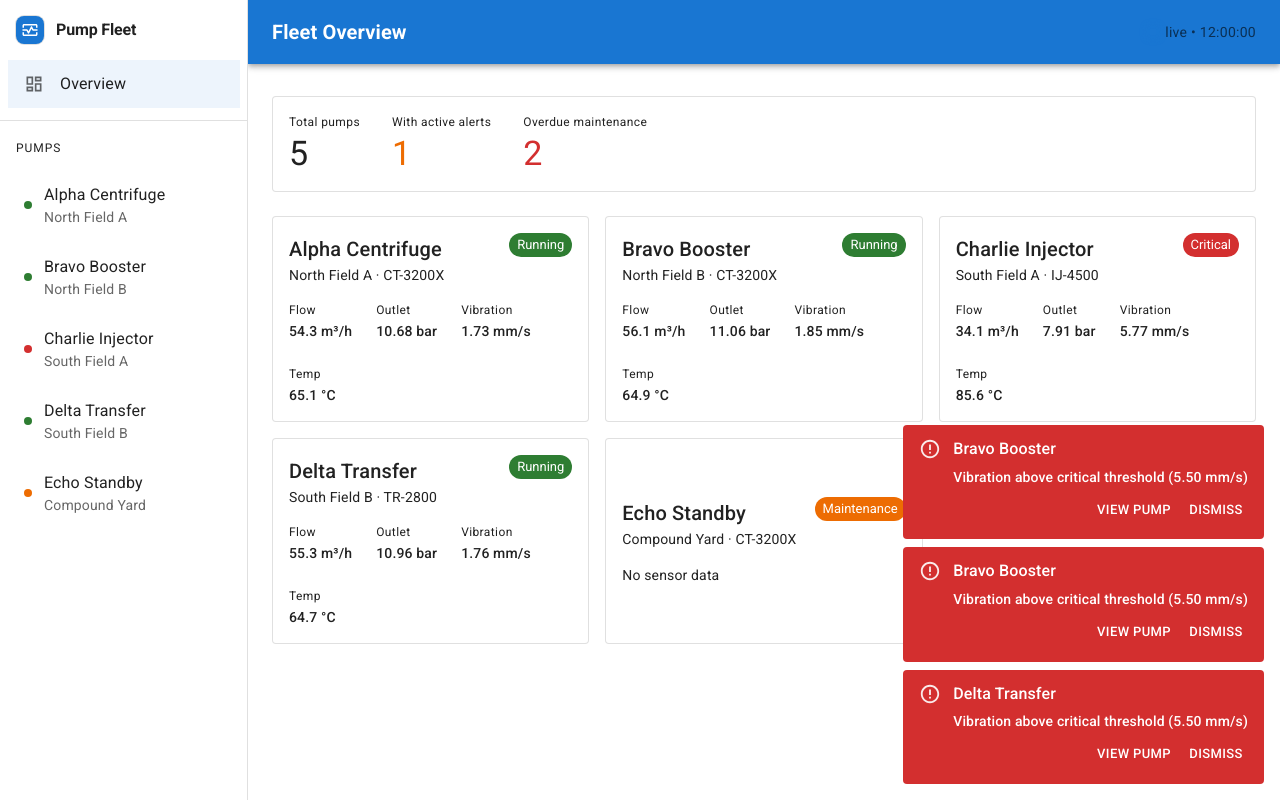
Test: LiveAlertToaster (integration) › View pump clears all toasts for the same pump
The image size is (1280, 800).
Expected: the text "Fleet Overview" is shown, [272,20,407,44]
Expected: the message with test id "live-toast-p1-b" is shown, [903,547,1264,662]
Click the 1st button "View pump": (1134,510) [1092,494,1176,525]
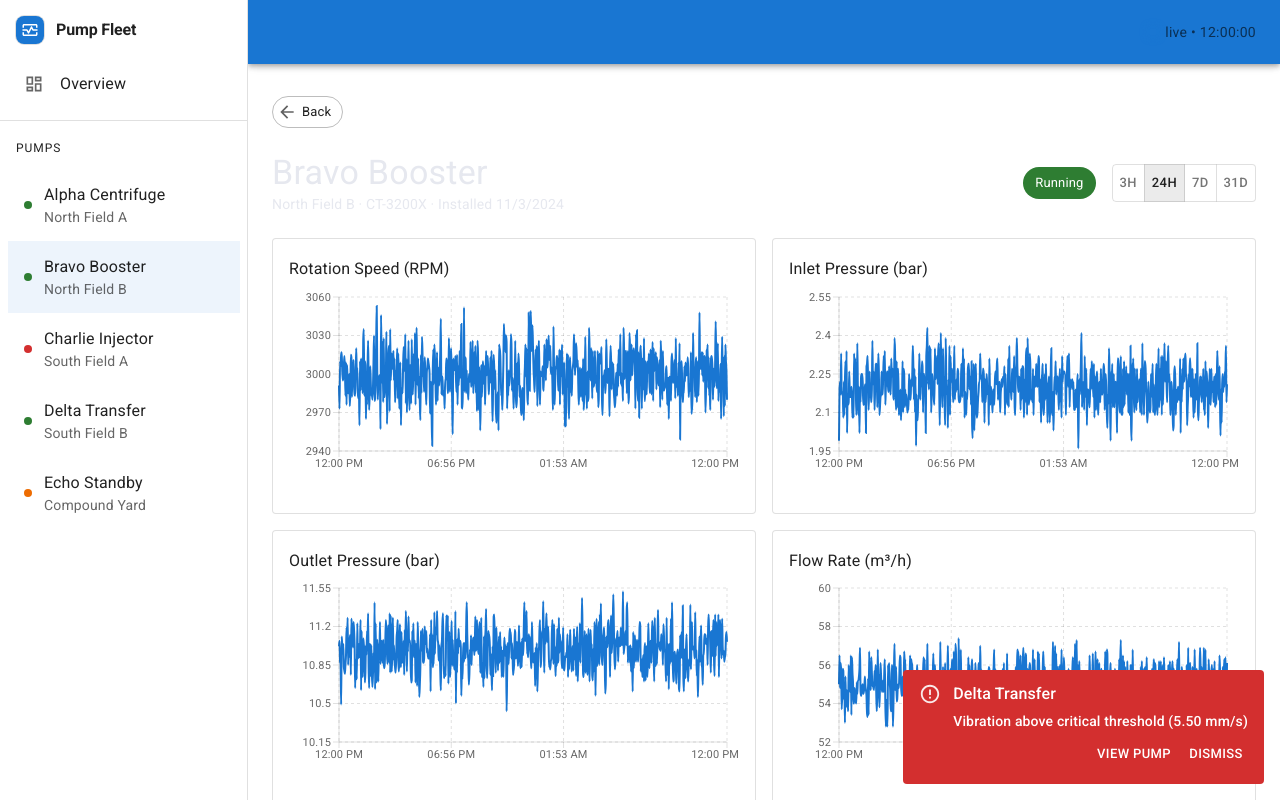
Expected: the message with test id "live-toast-p2-a" is shown, [903,670,1264,784]
Expected: the message with test id "live-toast-p1-a" is gone
Expected: the message with test id "live-toast-p1-b" is gone
